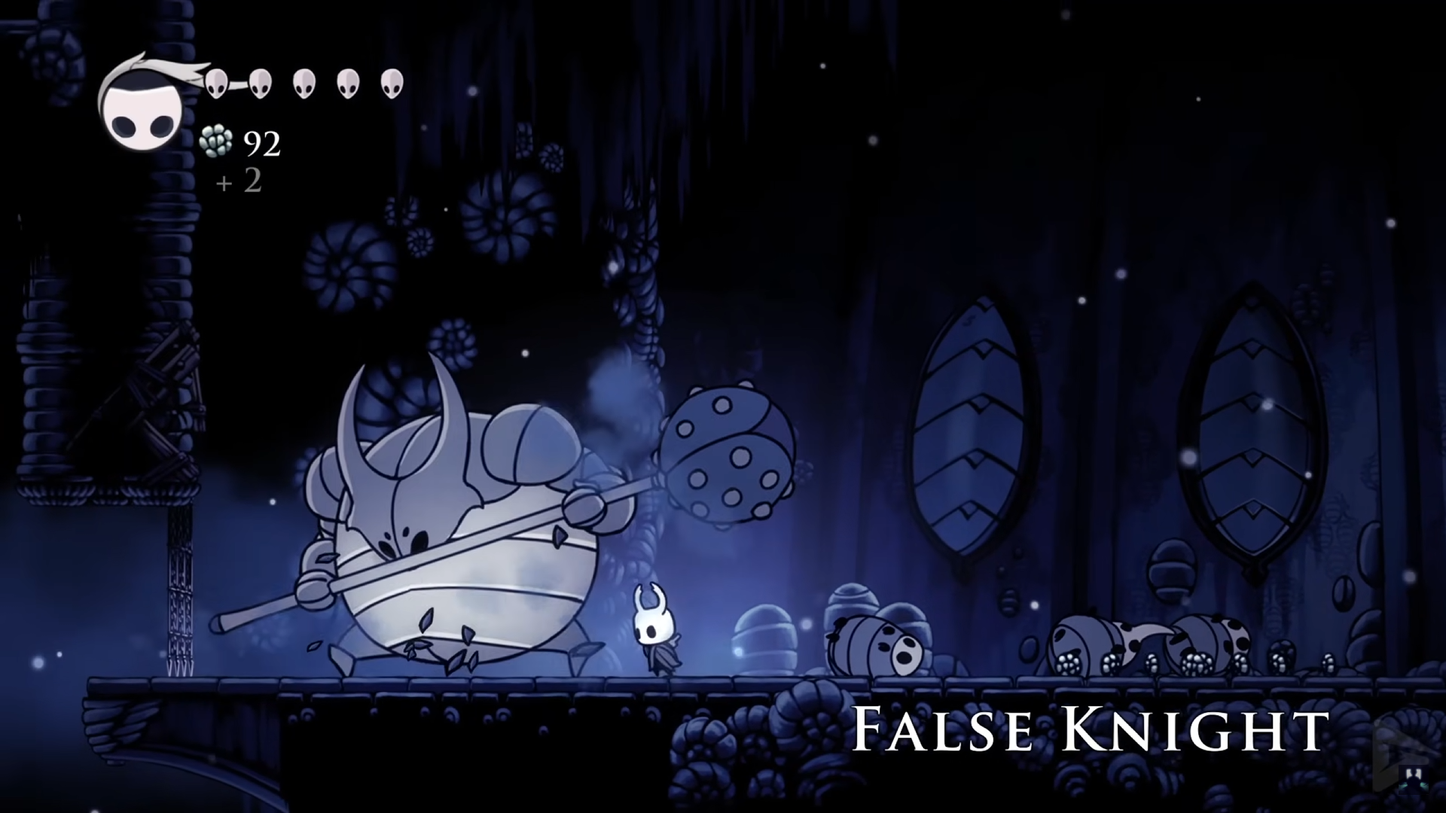HK: (627, 576, 688, 681)
